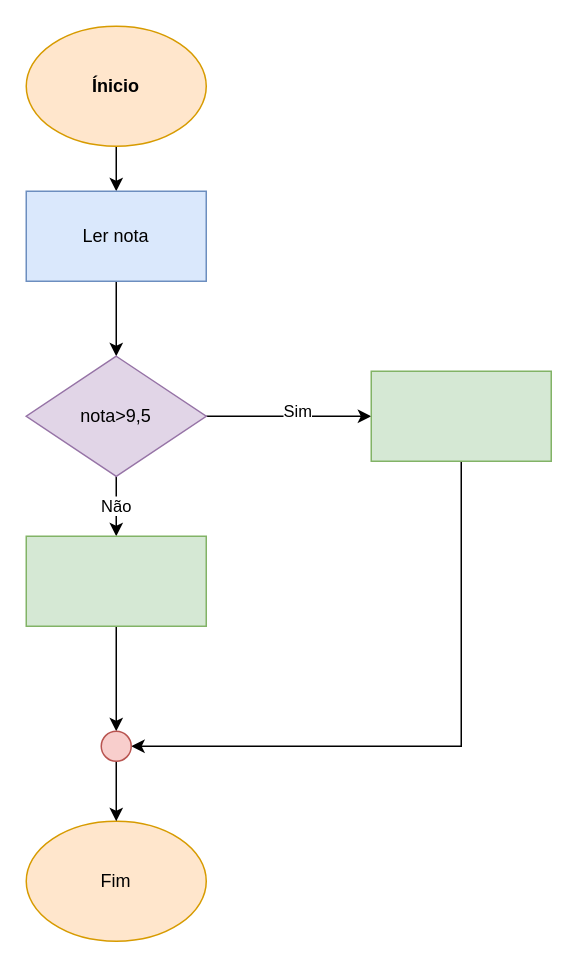
Some shapes in this 578 by 968 pixel diagram are drawn without their labels. Each missing label, with the centre of its shape:
Escrever "Aprovado": pixel 460 415
Escrever "Reprovado": pixel 115 580
